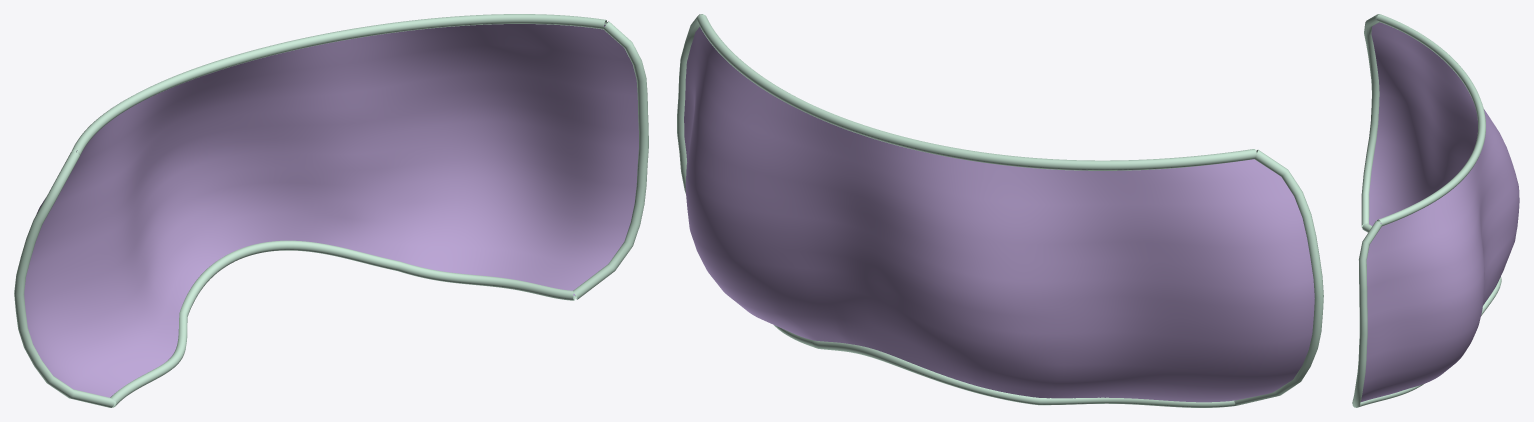
The model's file is 07-cape.glb.
3 views of the same model, side by side, from view 1: azimuth 30°, elevation 25°; view 2: azimuth 150°, elevation 25°; view 3: azimuth 270°, elevation 25° (orthographic). The views are drawn at different scales.
Visible parts, largest first — view 1: cape_cloth, cape_back_edge, cape_hem, cape_edge_120, cape_edge_0; view 2: cape_cloth, cape_back_edge, cape_hem, cape_edge_120, cape_edge_0; view 3: cape_cloth, cape_back_edge, cape_edge_120, cape_edge_0, cape_hem.
Boxes of the visible parts, x1,y1,x2,y2 form: cape_cloth: [24, 24, 638, 397]; cape_back_edge: [72, 14, 607, 155]; cape_hem: [110, 240, 575, 407]; cape_edge_120: [14, 151, 114, 407]; cape_edge_0: [573, 21, 648, 299]; cape_cloth: [684, 27, 1314, 402]; cape_back_edge: [697, 14, 1256, 170]; cape_hem: [774, 325, 1235, 407]; cape_edge_120: [1234, 149, 1323, 405]; cape_edge_0: [677, 14, 702, 193]; cape_cloth: [1360, 19, 1519, 401]; cape_back_edge: [1376, 14, 1485, 226]; cape_edge_120: [1361, 14, 1379, 227]; cape_edge_0: [1352, 221, 1381, 407]; cape_hem: [1358, 223, 1501, 407].
Bounding box in the file's own units: 2.01 × 0.7952 × 0.586.
